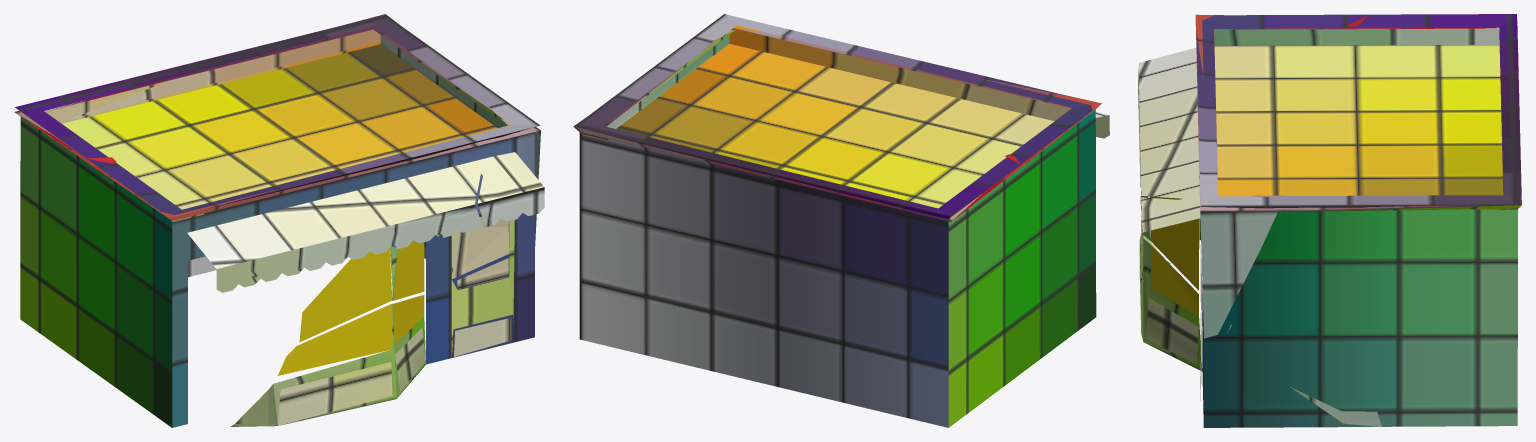
The model's file is BrokenBaseBuilding.fbx.
3 renders of one model, left to right at view 1: azimuth 30°, elevation 25°; view 2: azimuth 150°, elevation 25°; view 3: azimuth 270°, elevation 25°, orthographic. The views are drawn at different scales.
Visible parts, largest first — view 1: B3_cell.005, B3_cell.009, B3_cell.013, B3_cell.007, B3_cell.008, B3_cell.014, B3_cell.015, B3_cell.010, B3_cell.011; view 2: B3_cell.005, B3_cell.009, B3_cell.007; view 3: B3_cell.005, B3_cell.009, B3_cell.007, B3_cell.013, B3_cell.008, B3_cell.015.
Part boxes in pixels (<box>): B3_cell.005: <box>20,117,534,427</box>; B3_cell.009: <box>14,14,540,246</box>; B3_cell.013: <box>187,162,482,341</box>; B3_cell.007: <box>15,15,539,222</box>; B3_cell.008: <box>230,295,425,426</box>; B3_cell.014: <box>451,216,514,357</box>; B3_cell.015: <box>472,152,544,226</box>; B3_cell.010: <box>454,318,511,356</box>; B3_cell.011: <box>457,258,508,289</box>; B3_cell.005: <box>579,110,1096,427</box>; B3_cell.009: <box>573,25,1101,221</box>; B3_cell.007: <box>576,14,1092,218</box>; B3_cell.005: <box>1199,209,1517,427</box>; B3_cell.009: <box>1195,14,1521,338</box>; B3_cell.007: <box>1196,14,1521,426</box>; B3_cell.013: <box>1138,47,1199,290</box>; B3_cell.008: <box>1139,232,1202,370</box>; B3_cell.015: <box>1141,194,1200,254</box>.
Bounding box in the file's own units: 29.56 × 15.94 × 24.81.
